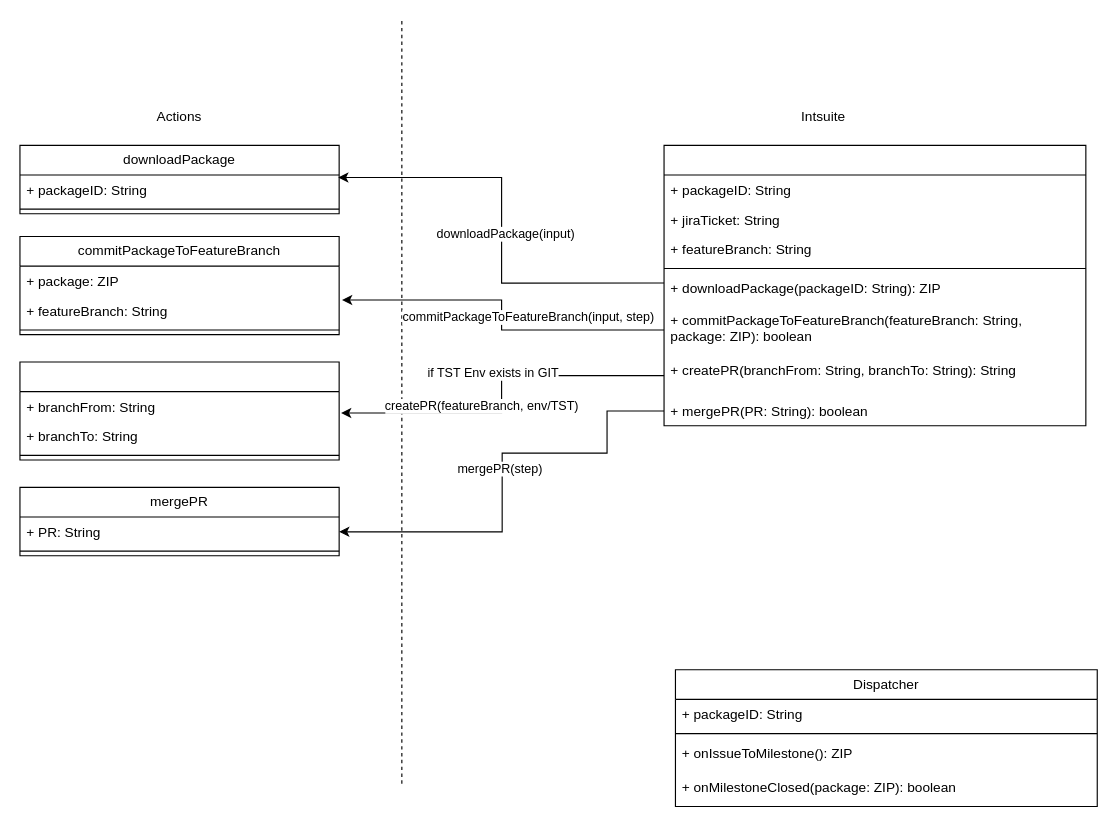
The diagram is 1117 pixels wide and 830 high, and some of its shapes have lost their labels. The box of each missing label's shape, as (x1, y1, x2, y2) in pixels:
createPR: (19, 361, 339, 460)
Workflow Transport to TST: (663, 144, 1086, 426)
